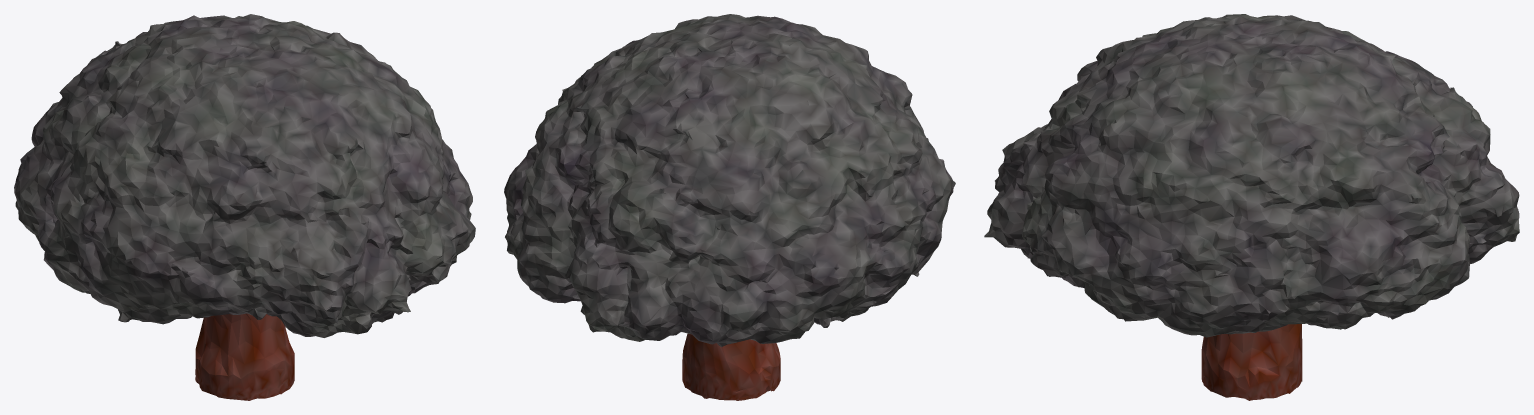
Rendered from bloodwood_tree.glb.
3 renders of one model, left to right at view 1: azimuth 30°, elevation 25°; view 2: azimuth 150°, elevation 25°; view 3: azimuth 270°, elevation 25°, orthographic. The views are drawn at different scales.
Parts seen in each view (by area): view 1: world; view 2: world; view 3: world.
Part boxes in pixels (x1,y1,x2,y2): world: (14,14,475,400); world: (504,14,955,400); world: (984,14,1519,400).
Size of the model in its own units: 5.29 by 4.5 by 6.39.
